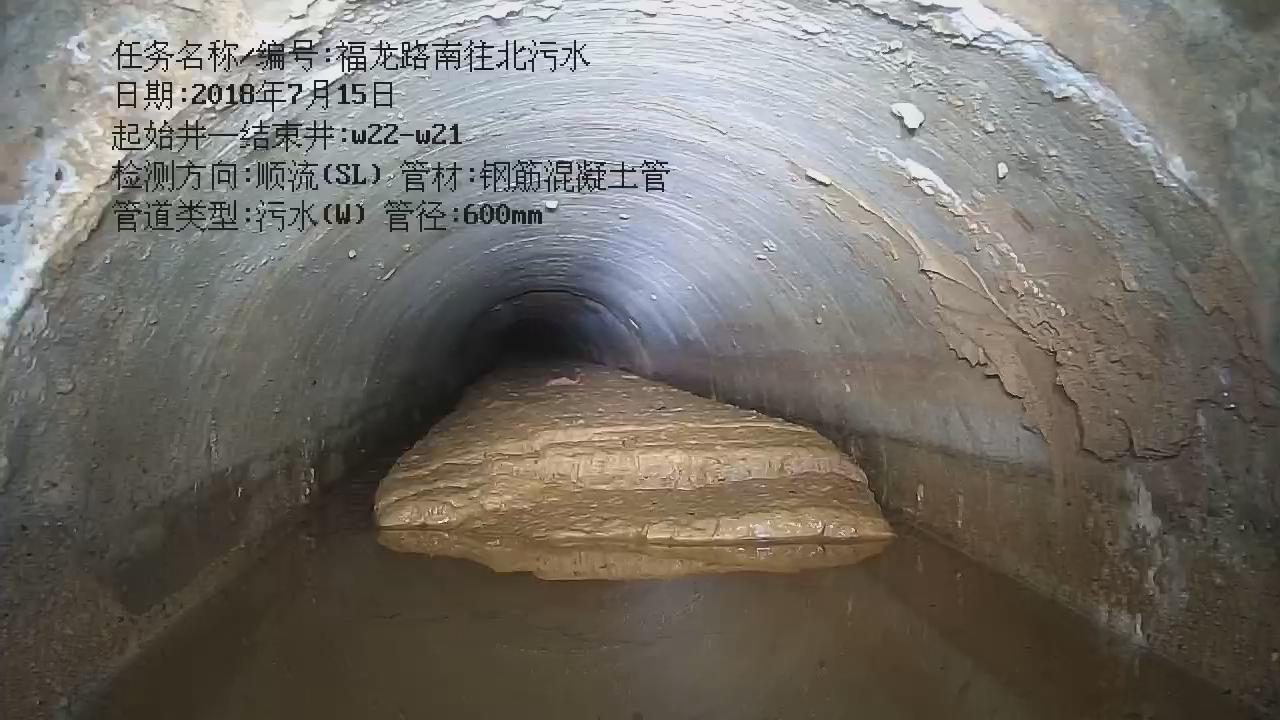JG: (374, 363, 892, 552)
